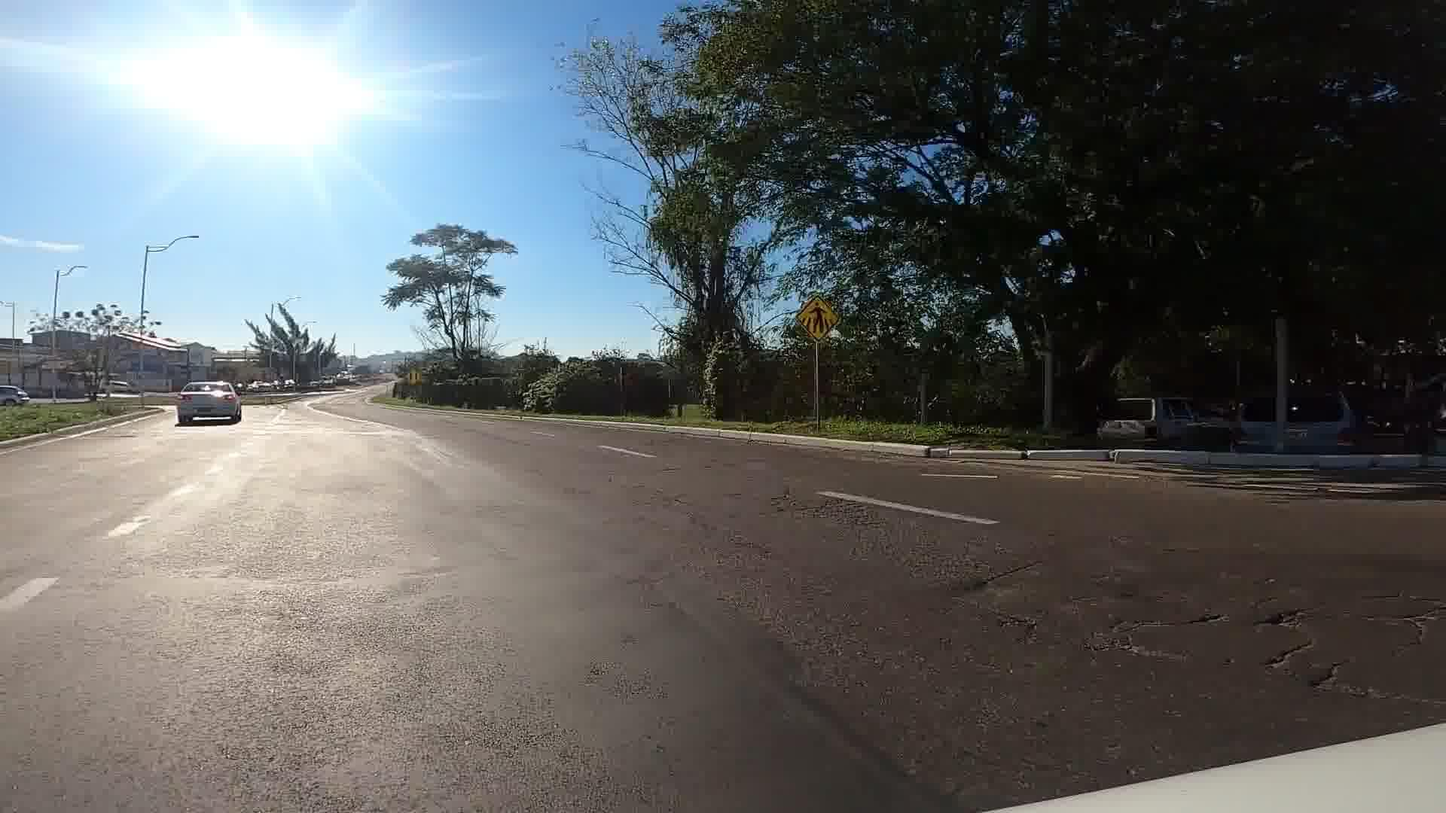A-32b: (795, 296, 843, 345)
